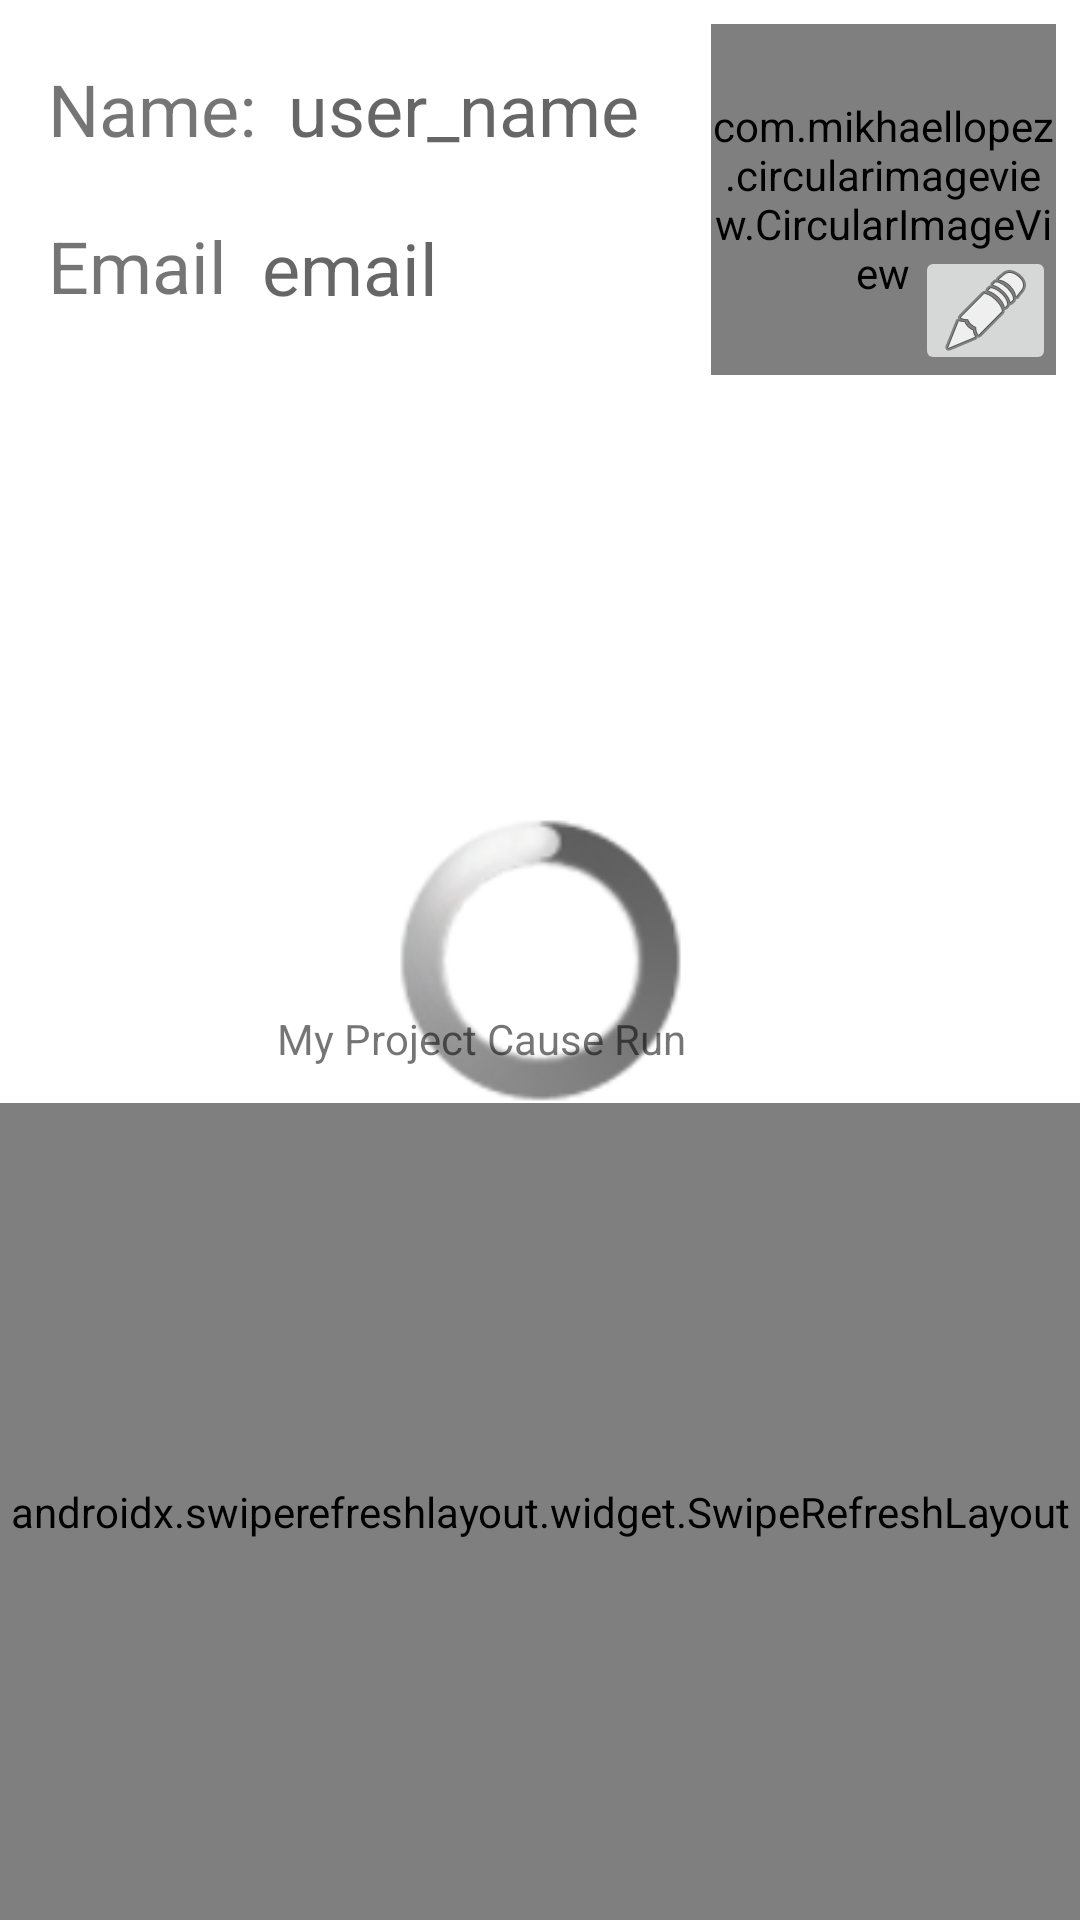

Icon click points for this 1080×1920 phone screenshot, format [x,y]:
edit: [985,310]
